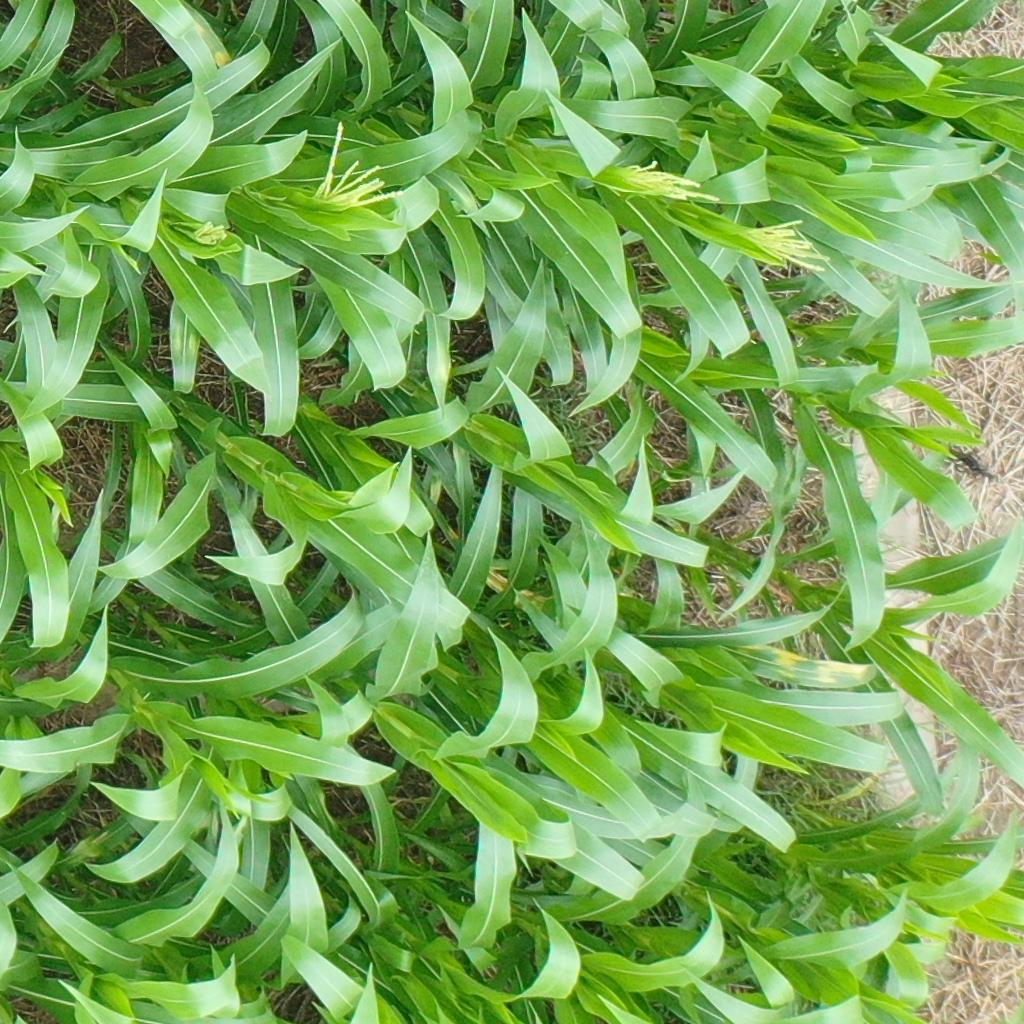Tassel: (301, 119, 406, 214), (610, 155, 722, 209), (741, 214, 834, 276), (193, 219, 230, 246)
